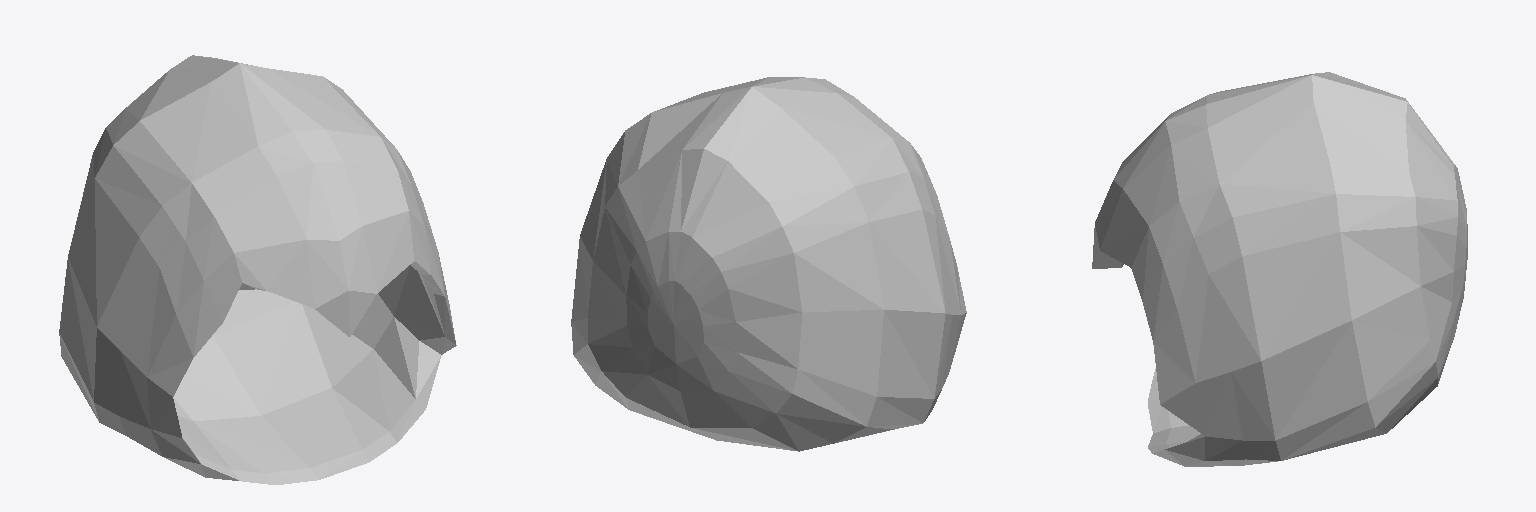
Rendered from character_skeleton_archer_hood.obj.
3 renders of one model, left to right at view 1: azimuth 30°, elevation 25°; view 2: azimuth 150°, elevation 25°; view 3: azimuth 270°, elevation 25°, orthographic.
Visible parts, largest first — view 1: character_skeleton_archer_hood_Cube.7656; view 2: character_skeleton_archer_hood_Cube.7656; view 3: character_skeleton_archer_hood_Cube.7656.
Part boxes in pixels (bbox=[...]): character_skeleton_archer_hood_Cube.7656: bbox=[59, 55, 456, 484]; character_skeleton_archer_hood_Cube.7656: bbox=[571, 77, 966, 451]; character_skeleton_archer_hood_Cube.7656: bbox=[1092, 72, 1467, 466].
Bounding box in the file's own units: 1.12 × 1.15 × 1.08.